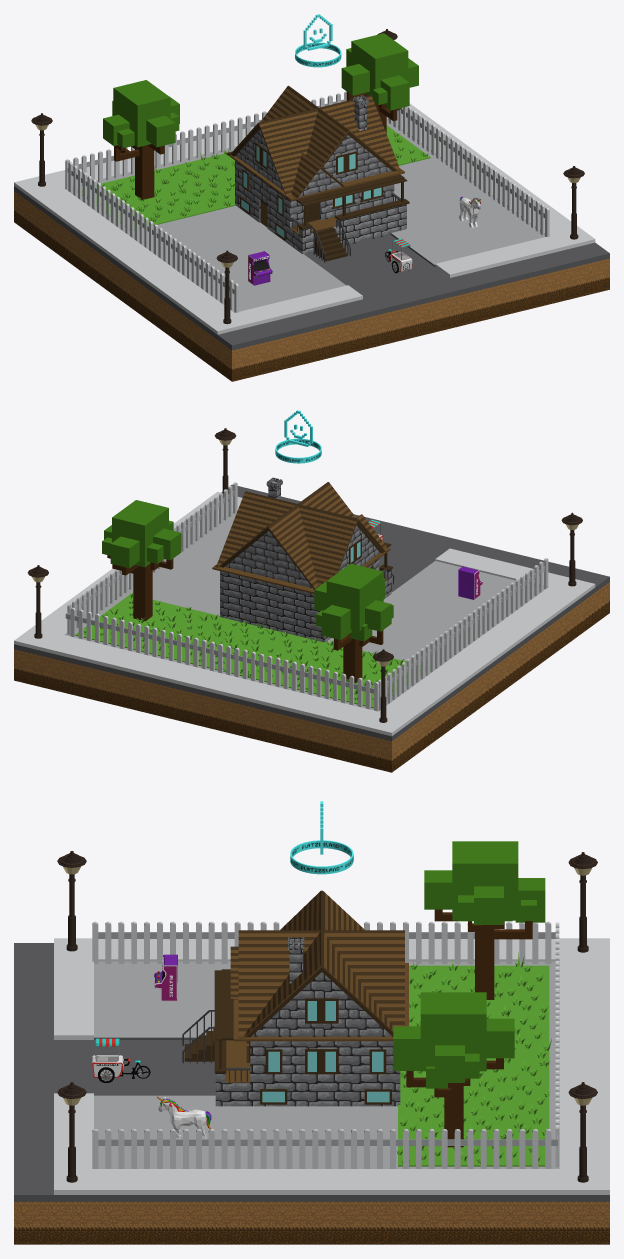
3 renders of one model, top to bottom at view 1: azimuth 30°, elevation 25°; view 2: azimuth 150°, elevation 25°; view 3: azimuth 270°, elevation 25°, orthographic. The views are drawn at different scales.
Parts seen in each view (by area): view 1: Cube.004, Cube.586, TYPE_PREMIUM, OBJRANDOM_ARCADE, VEHICLES_SNOWBAL_BIKE, ANIMAL_UNICORNIO; view 2: Cube.004, Cube.586, TYPE_PREMIUM, OBJRANDOM_ARCADE; view 3: Cube.004, Cube.586, VEHICLES_SNOWBAL_BIKE, TYPE_PREMIUM, ANIMAL_UNICORNIO, OBJRANDOM_ARCADE.
Part boxes in pixels (bbox=[...]): Cube.004: bbox=[14, 29, 609, 381]; Cube.586: bbox=[226, 85, 409, 262]; TYPE_PREMIUM: bbox=[295, 14, 341, 67]; OBJRANDOM_ARCADE: bbox=[248, 251, 272, 285]; VEHICLES_SNOWBAL_BIKE: bbox=[385, 238, 412, 273]; ANIMAL_UNICORNIO: bbox=[459, 196, 480, 228]; Cube.004: bbox=[14, 428, 609, 772]; Cube.586: bbox=[212, 477, 394, 642]; TYPE_PREMIUM: bbox=[275, 410, 321, 463]; OBJRANDOM_ARCADE: bbox=[458, 566, 482, 599]; Cube.004: bbox=[14, 841, 609, 1244]; Cube.586: bbox=[182, 890, 408, 1106]; VEHICLES_SNOWBAL_BIKE: bbox=[92, 1038, 150, 1082]; TYPE_PREMIUM: bbox=[290, 801, 353, 874]; ANIMAL_UNICORNIO: bbox=[157, 1096, 211, 1139]; OBJRANDOM_ARCADE: bbox=[154, 954, 177, 1001].
Size of the model in its own units: 4000 by 2483 by 4000.
Materials: 45 (5 with a texture image).
